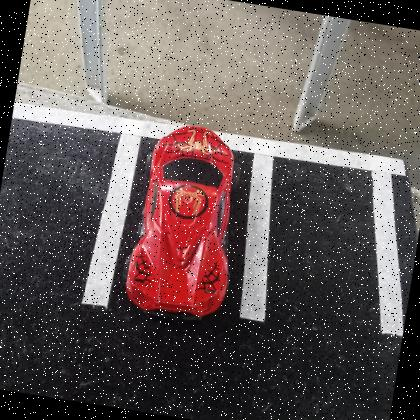Car: (125, 126, 234, 321)
